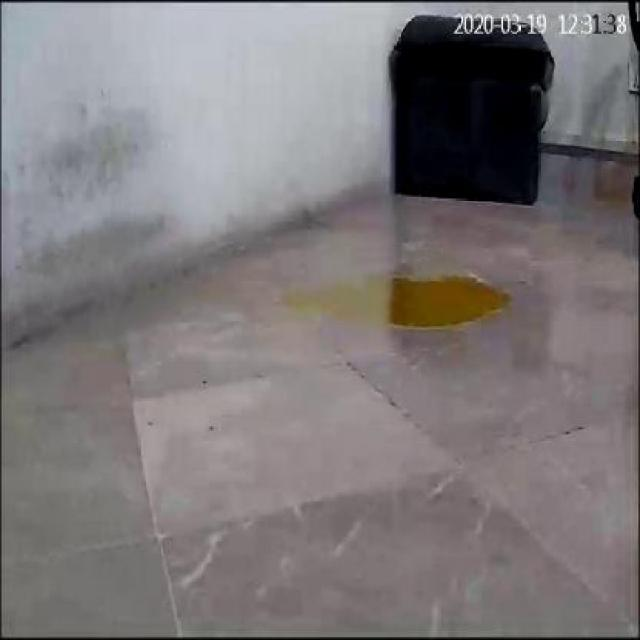spill: (306, 272, 514, 330)
